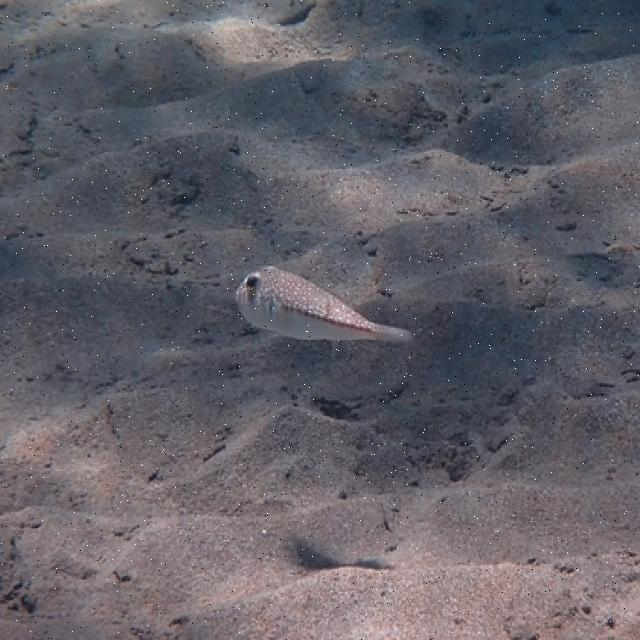Balik: (236, 266, 412, 341)
